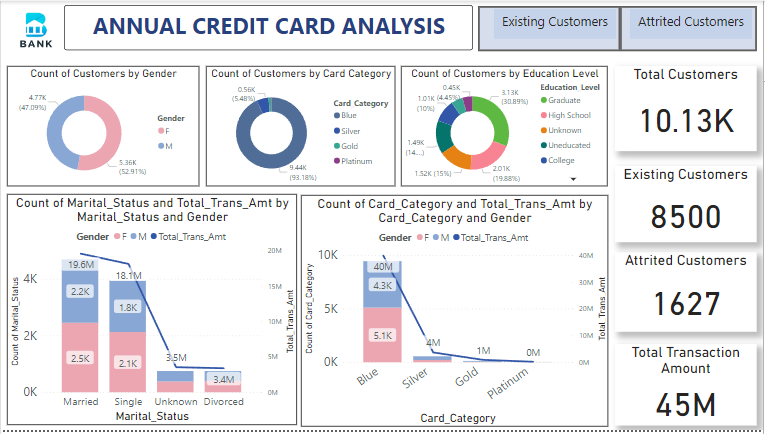

The page's visual inventory and layout, read from the dashboard file:
{"tool":"powerbi","page":{"name":"Overview","canvas":[1280,720],"ordinal":0},"visuals":[{"type":"image","box":[10.8,5.4,93.7,88.3],"z":0},{"type":"textbox","box":[106.4,7.2,686.9,75.7],"z":1000},{"type":"actionButton","title":"Attried Customers","box":[1039.8,8.4,230.1,75.6],"z":2000},{"type":"textbox","box":[1056.6,13.4,204.9,50.4],"z":3000},{"type":"actionButton","title":"Attried Customers","box":[801.3,8.4,238.5,75.6],"z":4000},{"type":"textbox","box":[828.1,13.4,204.9,50.4],"z":5000},{"type":"card","title":"Total Customers","fields":{"Values":["CountNonNull(BankChurners.Attrition_Flag)"]},"box":[1031,109.4,237.6,142.6],"z":6000},{"type":"card","title":"Attrited Customers","fields":{"Values":["BankChurners.Attrited Customers"]},"box":[1031,421.9,237.6,133.9],"z":7000},{"type":"card","title":"Existing Customers","fields":{"Values":["BankChurners.Existing Customers"]},"box":[1031,276.5,237.6,128.2],"z":8000},{"type":"card","title":"Total Transaction Amount","fields":{"Values":["Sum(BankChurners.Total_Trans_Amt)"]},"box":[1031,576,237.6,136.8],"z":9000},{"type":"lineStackedColumnComboChart","fields":{"Y2":["Sum(BankChurners.Total_Trans_Amt)"],"Category":["BankChurners.Marital_Status"],"Y":["CountNonNull(BankChurners.Marital_Status)"],"Series":["BankChurners.Gender"]},"box":[10.1,324.2,487.1,388],"z":10000},{"type":"lineStackedColumnComboChart","fields":{"Y2":["Sum(BankChurners.Total_Trans_Amt)"],"Series":["BankChurners.Gender"],"Category":["BankChurners.Card_Category"],"Y":["CountNonNull(BankChurners.Card_Category)"]},"box":[504,325.4,515.5,388.8],"z":11000},{"type":"donutChart","title":"Count of Customers by Gender","fields":{"Category":["BankChurners.Gender"],"Y":["CountNonNull(BankChurners.Attrition_Flag)"]},"box":[10.1,109.2,322.5,201.6],"z":12000},{"type":"donutChart","title":"Count of Customers by Card Category","fields":{"Category":["BankChurners.Card_Category"],"Y":["CountNonNull(BankChurners.Attrition_Flag)"]},"box":[344.2,109.4,318.2,201.6],"z":13000},{"type":"donutChart","title":"Count of Customers by Education Level","fields":{"Y":["CountNonNull(BankChurners.Attrition_Flag)"],"Category":["BankChurners.Education_Level"]},"box":[672.5,109.4,347,201.6],"z":14000}]}

Visuals, with their boxes in screenshot pixels (x1, y1, x2, y2), scaled from the page's 1280x720 canvas onto the 765x434 screenshot:
image: <box>6,3,62,56</box>
textbox: <box>64,4,474,50</box>
"Attried Customers" actionButton: <box>621,5,759,51</box>
textbox: <box>631,8,754,38</box>
"Attried Customers" actionButton: <box>479,5,621,51</box>
textbox: <box>495,8,617,38</box>
"Total Customers" card: <box>616,66,758,152</box>
"Attrited Customers" card: <box>616,254,758,335</box>
"Existing Customers" card: <box>616,167,758,244</box>
"Total Transaction Amount" card: <box>616,347,758,430</box>
lineStackedColumnComboChart - Sum(BankChurners.Total_Trans_Amt) x BankChurners.Marital_Status: <box>6,195,297,429</box>
lineStackedColumnComboChart - Sum(BankChurners.Total_Trans_Amt) x BankChurners.Gender: <box>301,196,609,431</box>
"Count of Customers by Gender" donutChart: <box>6,66,199,187</box>
"Count of Customers by Card Category" donutChart: <box>206,66,396,187</box>
"Count of Customers by Education Level" donutChart: <box>402,66,609,187</box>
